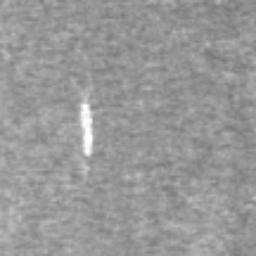White rust: (80, 102, 93, 157)
